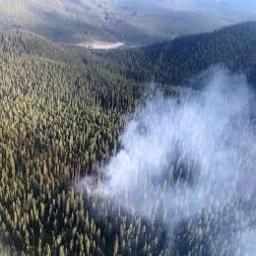Low smoke: (69, 57, 255, 256)
